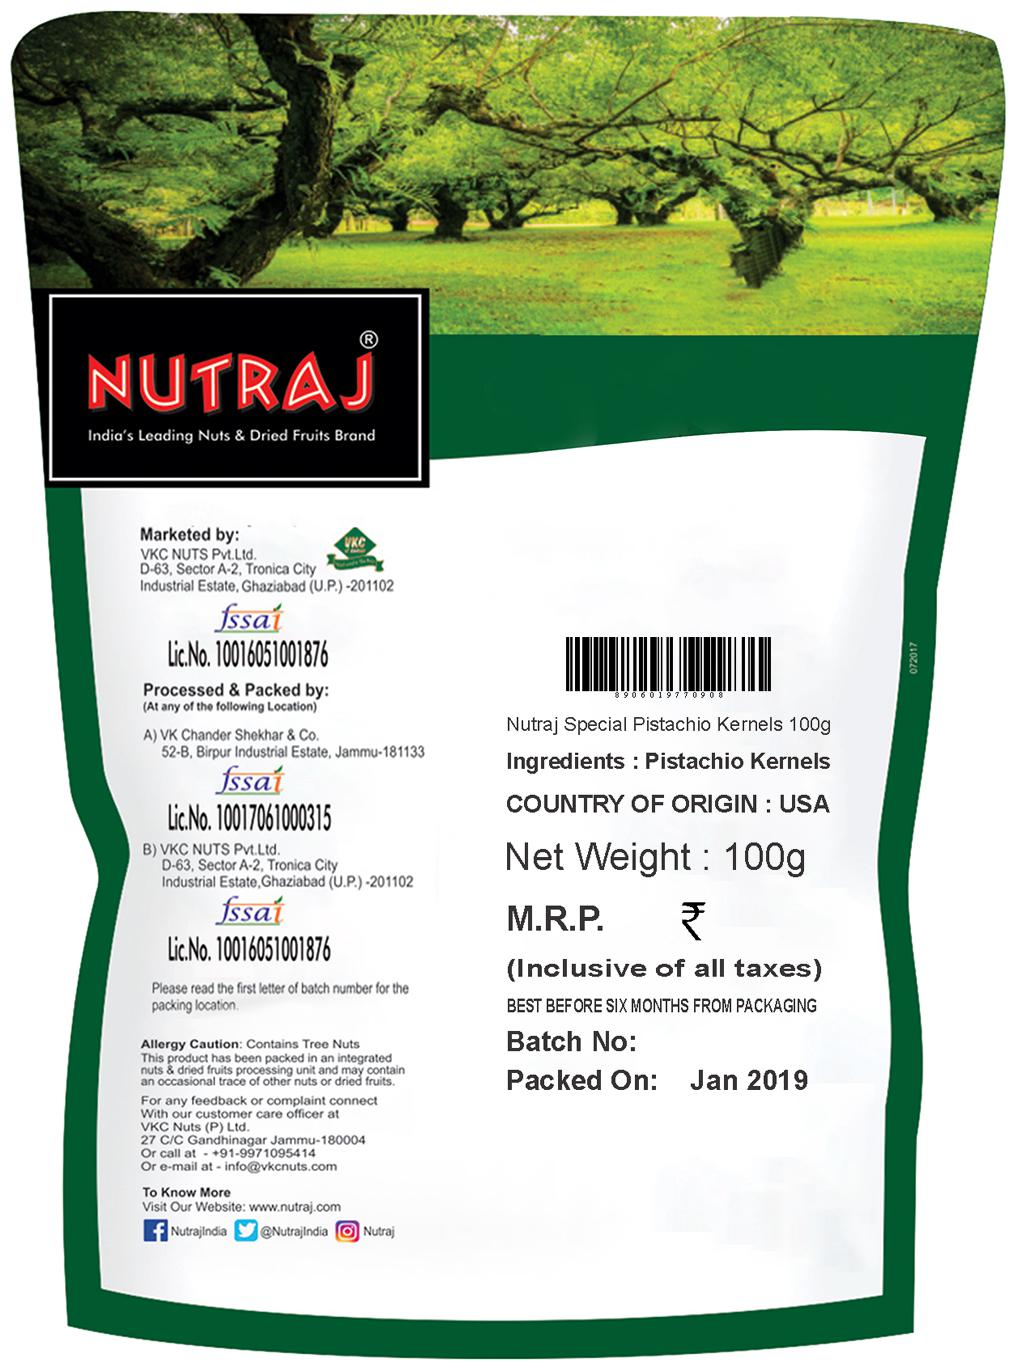fssai: (212, 602, 285, 636), (213, 764, 286, 796), (213, 895, 285, 927)
